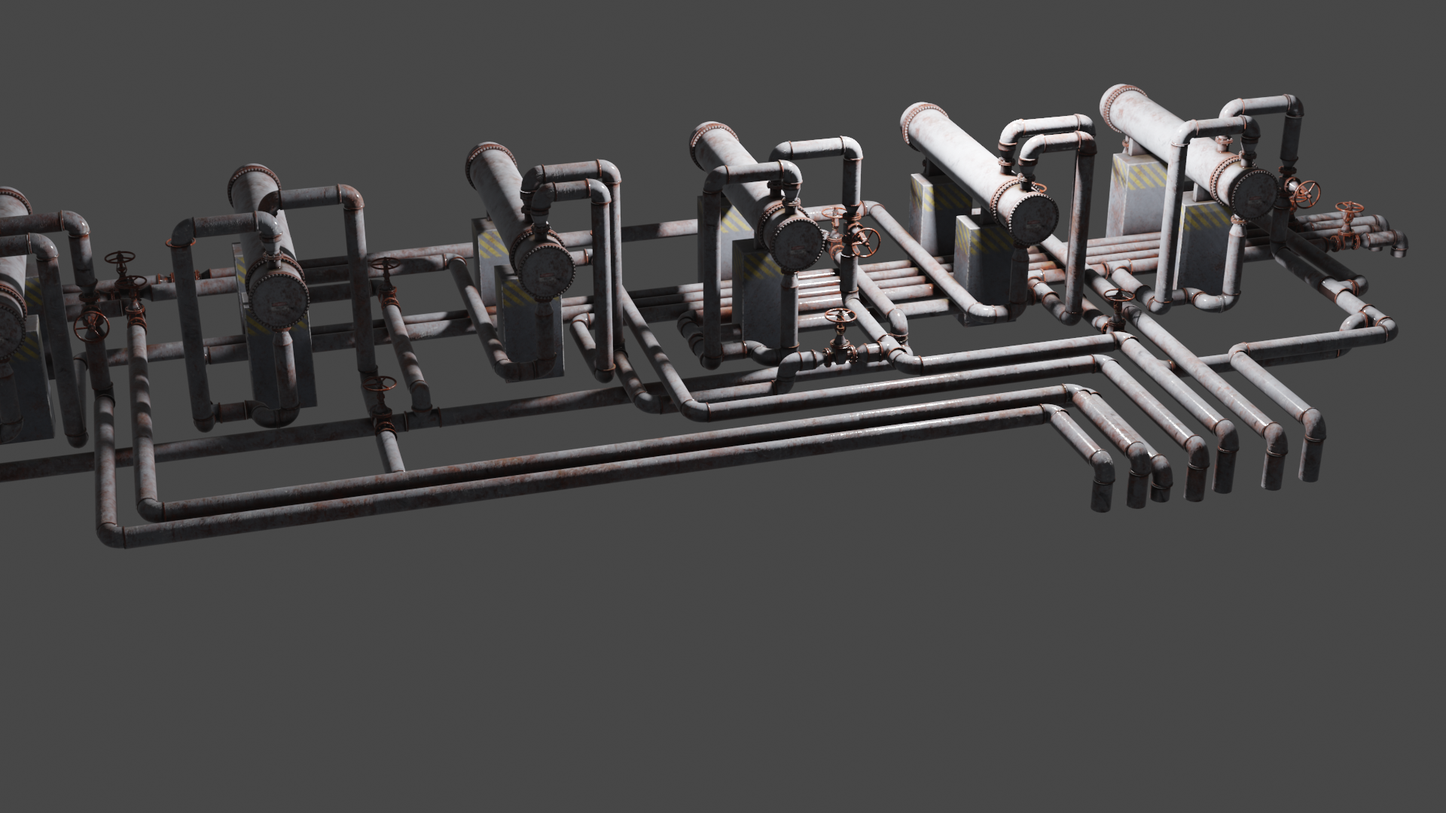HE_1: (2, 179, 33, 359)
HE_2: (227, 159, 310, 327)
HE_3: (464, 139, 572, 293)
HE_4: (684, 117, 825, 272)
HE_5: (895, 99, 1055, 245)
HE_6: (1096, 83, 1276, 216)
